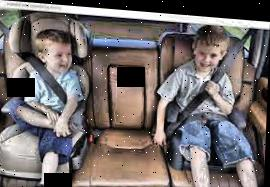seatbelt: (177, 24, 257, 123), (13, 50, 78, 109)
